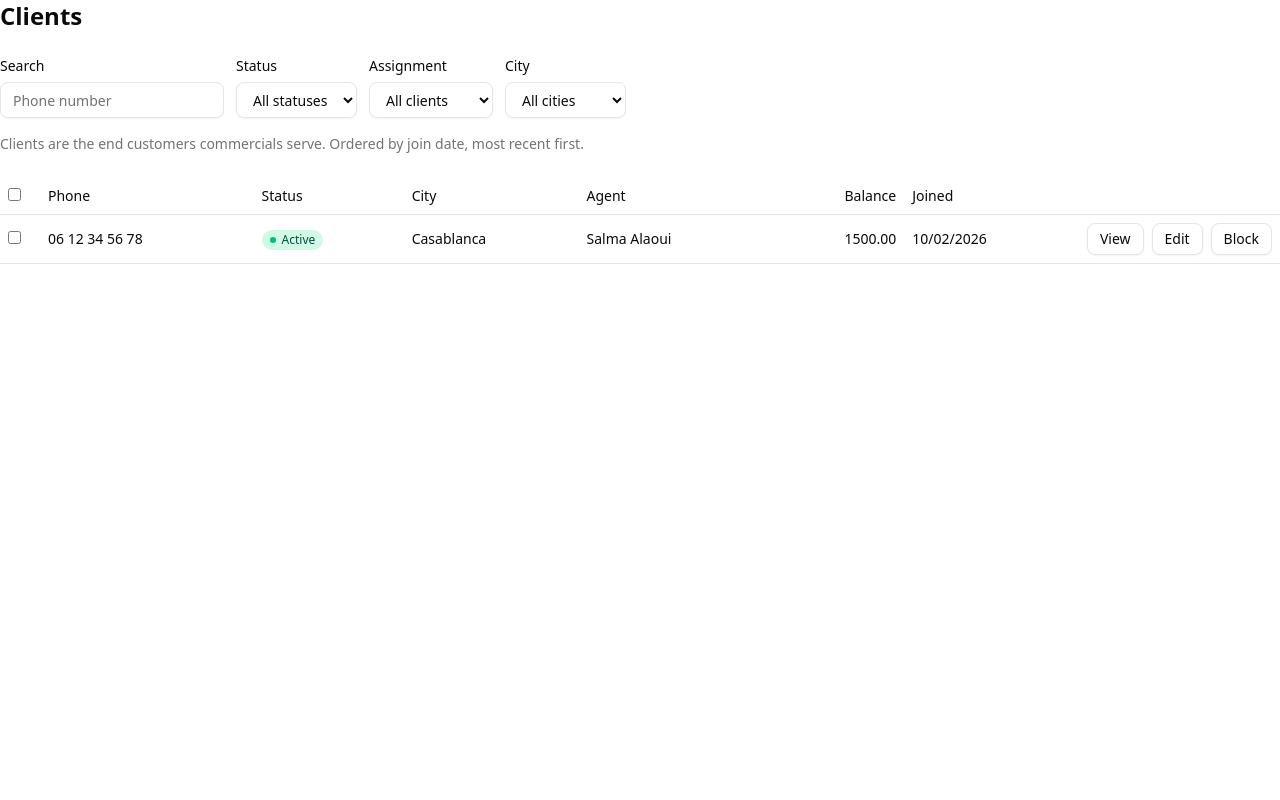
Scenario: edit › changing the City clears the previously-selected Secteur and re-scopes the options
The image size is (1280, 800).
Click the button with aria-label "edit 0612345678" at [1177, 239], box [1152,223,1203,255]
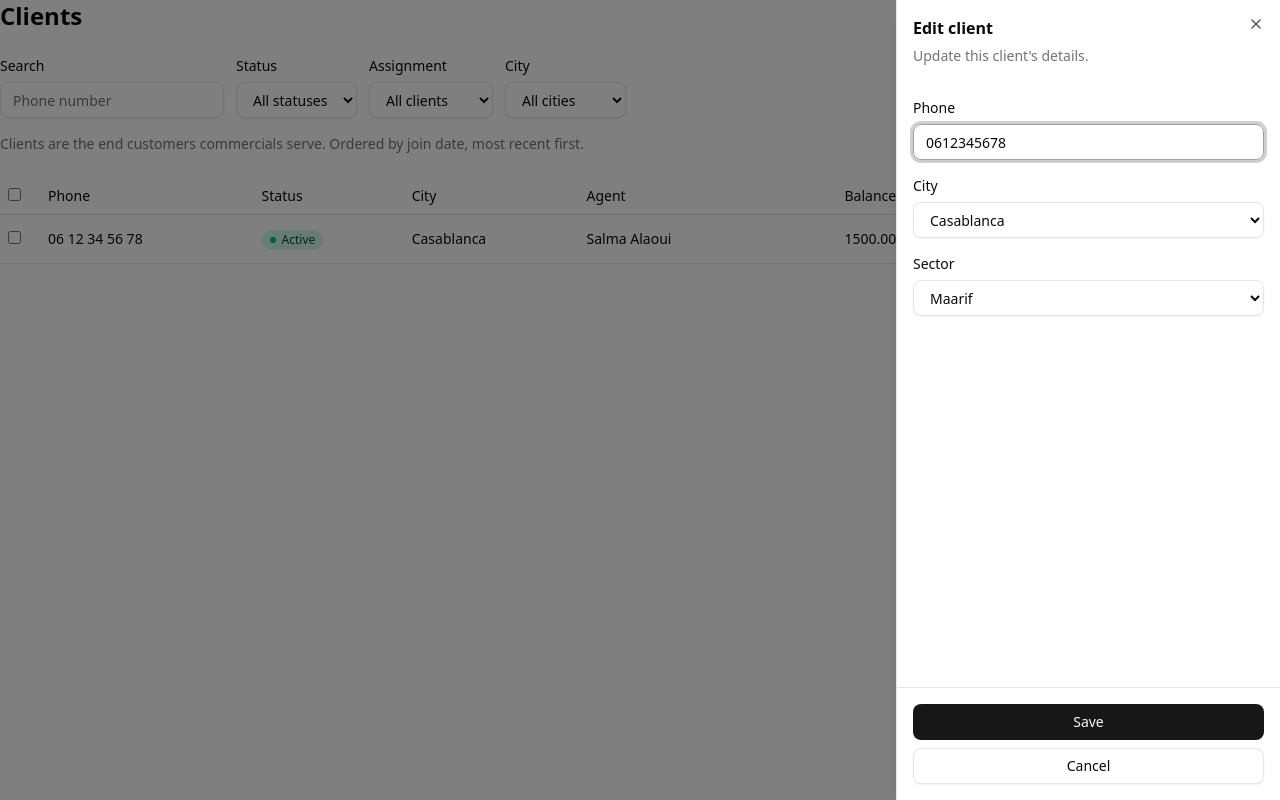
Check: the dropdown labelled "Sector" shows "Maarif", box [913,280,1264,316]
Select "Rabat" in the dropdown labelled "City" at [1088, 220], box [913,202,1264,238]
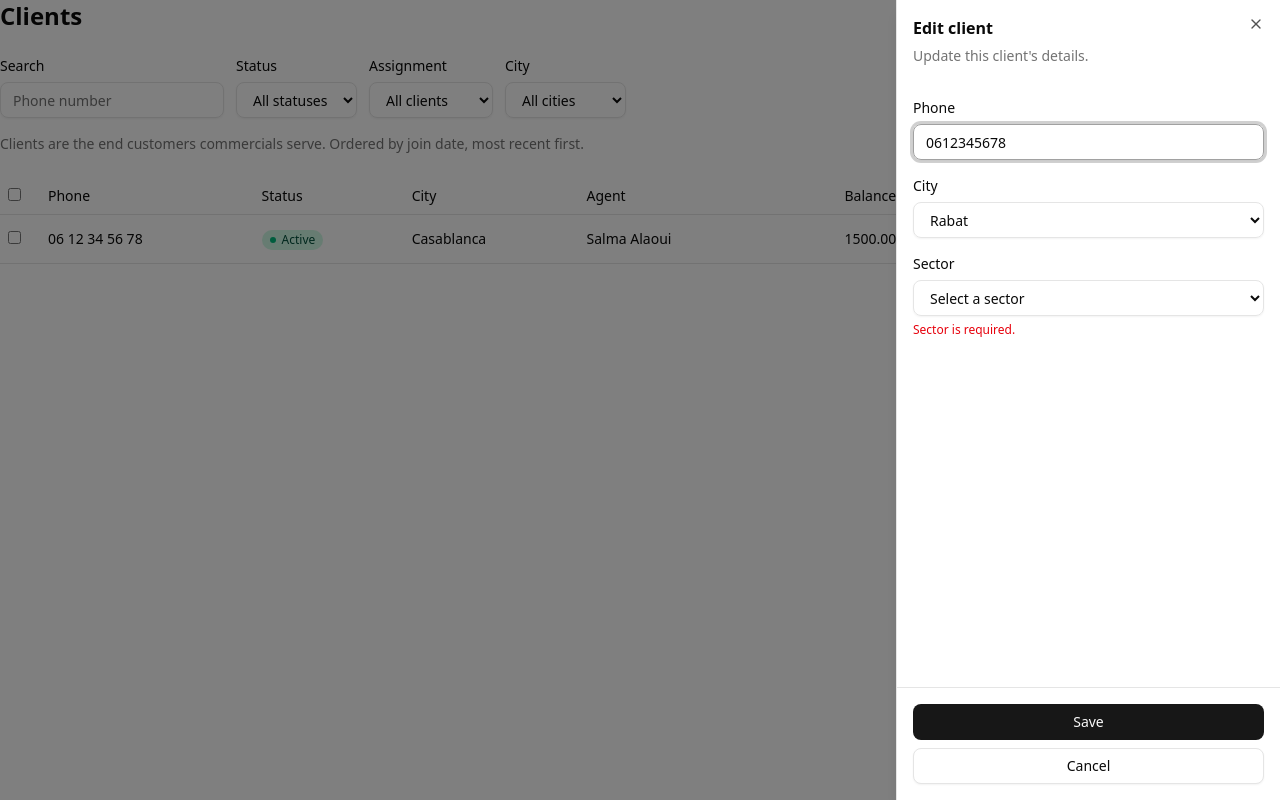
Check: the option "Maarif" is not shown
Check: the dropdown labelled "Sector" shows "Select a sector", box [913,280,1264,316]
